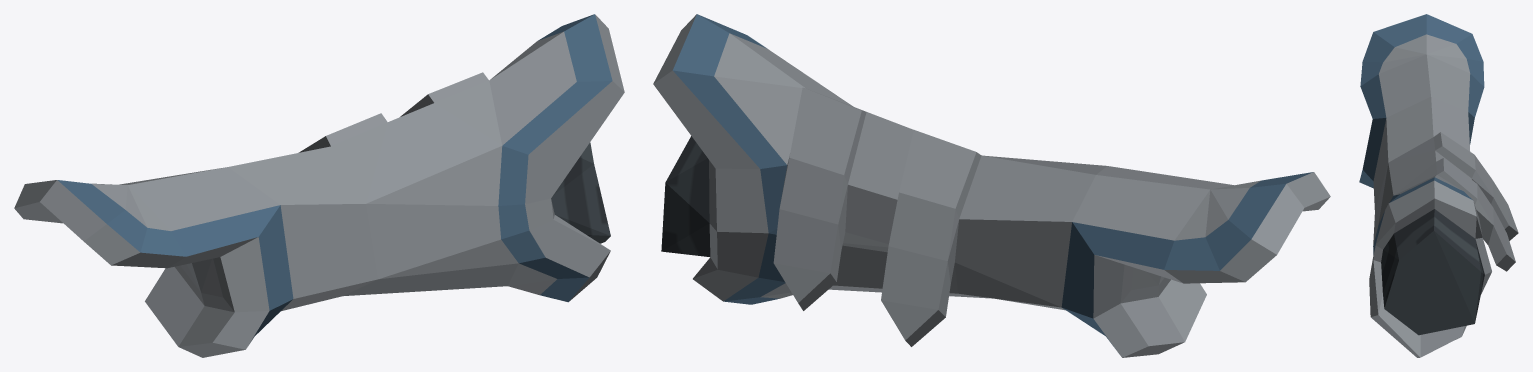
Rendered from Chr_ArmLowerRight_Female_06_Static.fbx.
3 views of the same model, side by side, from view 1: azimuth 30°, elevation 25°; view 2: azimuth 150°, elevation 25°; view 3: azimuth 270°, elevation 25° (orthographic). The views are drawn at different scales.
Visible parts, largest first — view 1: Chr_ArmLowerRight_Female_06_Static; view 2: Chr_ArmLowerRight_Female_06_Static; view 3: Chr_ArmLowerRight_Female_06_Static.
Boxes of the visible parts, <box> form: Chr_ArmLowerRight_Female_06_Static: <box>14,14,624,357</box>; Chr_ArmLowerRight_Female_06_Static: <box>653,14,1330,357</box>; Chr_ArmLowerRight_Female_06_Static: <box>1359,14,1518,357</box>.
Bounding box in the file's own units: 0.3929 × 0.1765 × 0.1337.
